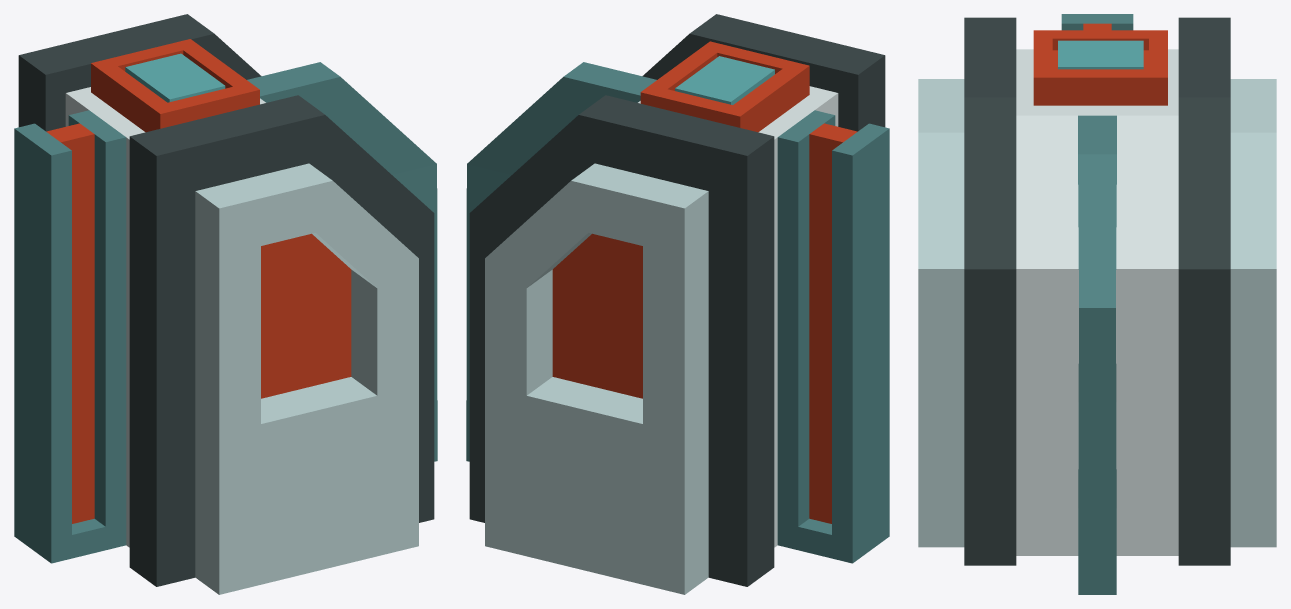
The model's file is TP_Sci-fi010.fbx.
The picture shows the model from 3 angles, left to right: view 1: azimuth 30°, elevation 25°; view 2: azimuth 150°, elevation 25°; view 3: azimuth 270°, elevation 25°; orthographic projection. The views are drawn at different scales.
Visible parts, largest first — view 1: TP_Sci_fi010; view 2: TP_Sci_fi010; view 3: TP_Sci_fi010.
Boxes of the visible parts, box(x1,y1,x2,y2) form: TP_Sci_fi010: box(14, 14, 437, 594); TP_Sci_fi010: box(466, 14, 889, 594); TP_Sci_fi010: box(918, 14, 1276, 594).
Size of the model in its own units: 111 by 117 by 89.95.
Materials: 1 (1 with a texture image).
